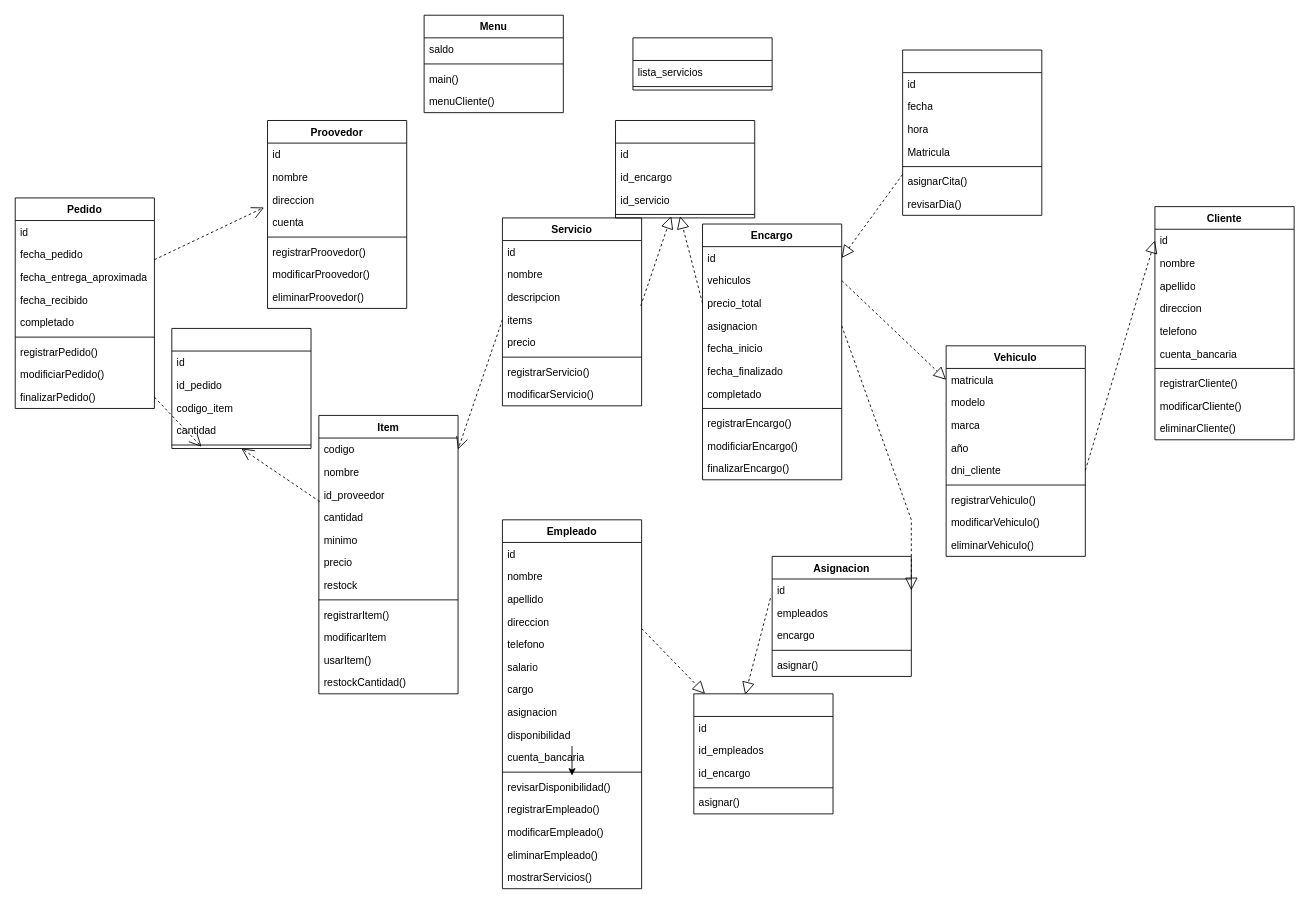
The diagram is 1309 pixels wide and 907 high, and some of its shapes have lost their labels. The box of each missing label's shape, as (x1, y1, x2, y2) in pixels:
Citas: (902, 49, 1042, 215)
Empleados_ Asignacion: (693, 693, 833, 814)
item_pedido: (171, 328, 311, 448)
Servicio_encargo: (615, 120, 755, 218)
Taller: (632, 37, 772, 90)
